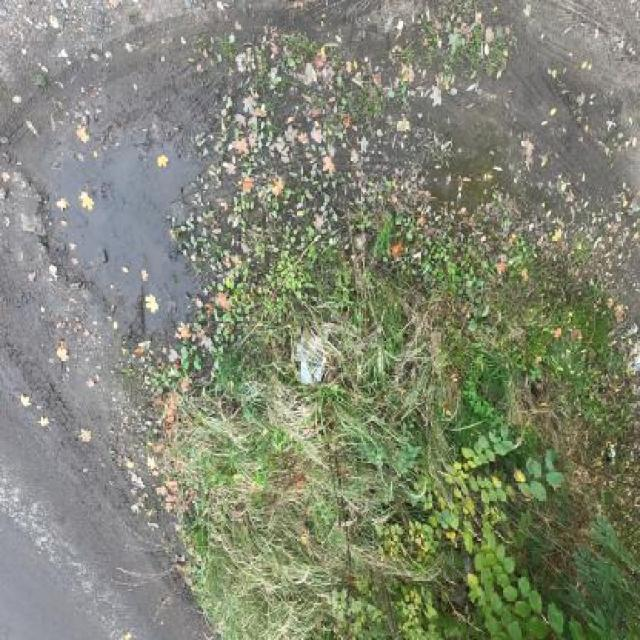Garbage: (311, 254, 344, 313), (164, 65, 180, 90), (23, 175, 33, 199)
